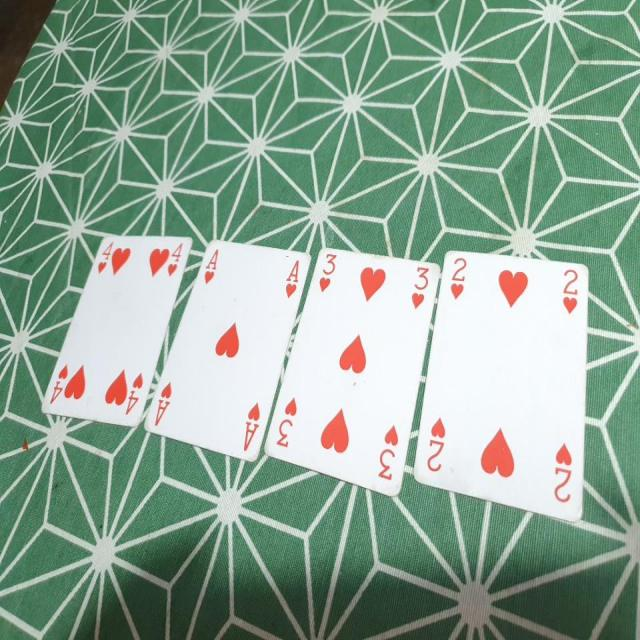2 Hearts: (412, 253, 593, 538)
3 Hearts: (264, 242, 439, 490)
4 Hearts: (33, 231, 183, 425)
A Hearts: (148, 234, 313, 469)
